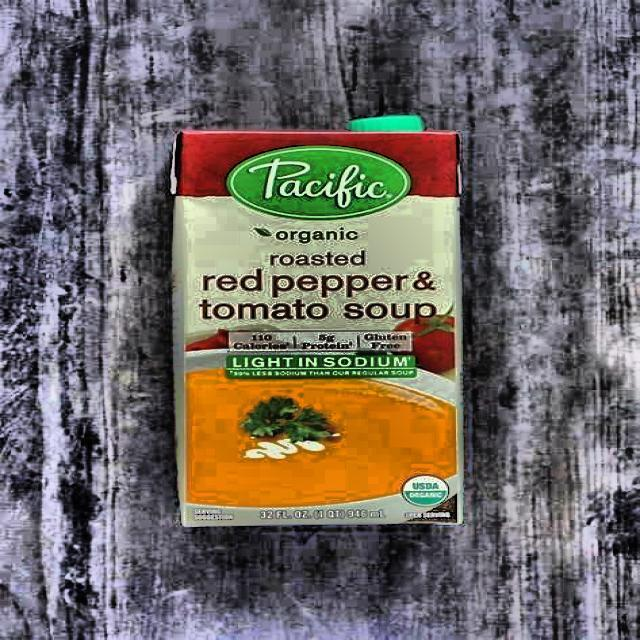cardboard: (169, 128, 464, 526)
